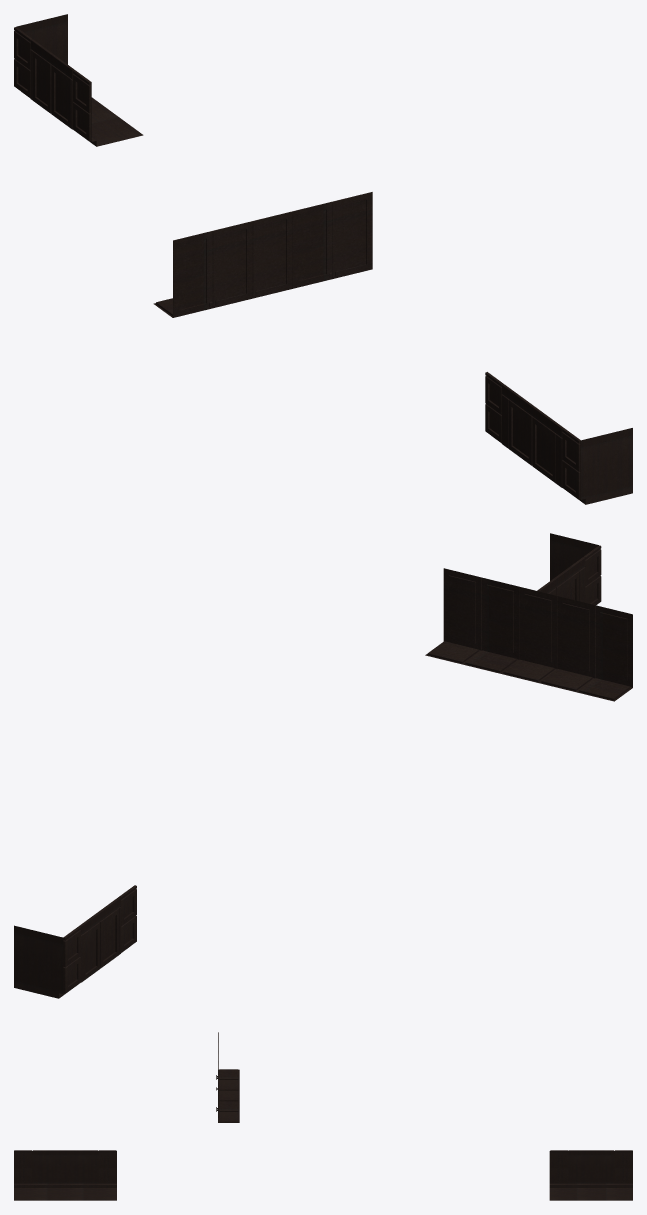
File: Cabinets_Epresso_.glb
3 renders of one model, top to bottom at view 1: azimuth 30°, elevation 25°; view 2: azimuth 150°, elevation 25°; view 3: azimuth 270°, elevation 25°, orthographic. The views are drawn at different scales.
Parts seen in each view (by area): view 1: Cabinets Epresso_; view 2: Cabinets Epresso_; view 3: Cabinets Epresso_.
Boxes of the visible parts, x1,y1,x2,y2 form: Cabinets Epresso_: [14, 14, 632, 504]; Cabinets Epresso_: [14, 533, 632, 998]; Cabinets Epresso_: [14, 1032, 632, 1200].
Bounding box in the file's own units: 4.8 × 3.07 × 17.16.
1 material, 1 textured.
